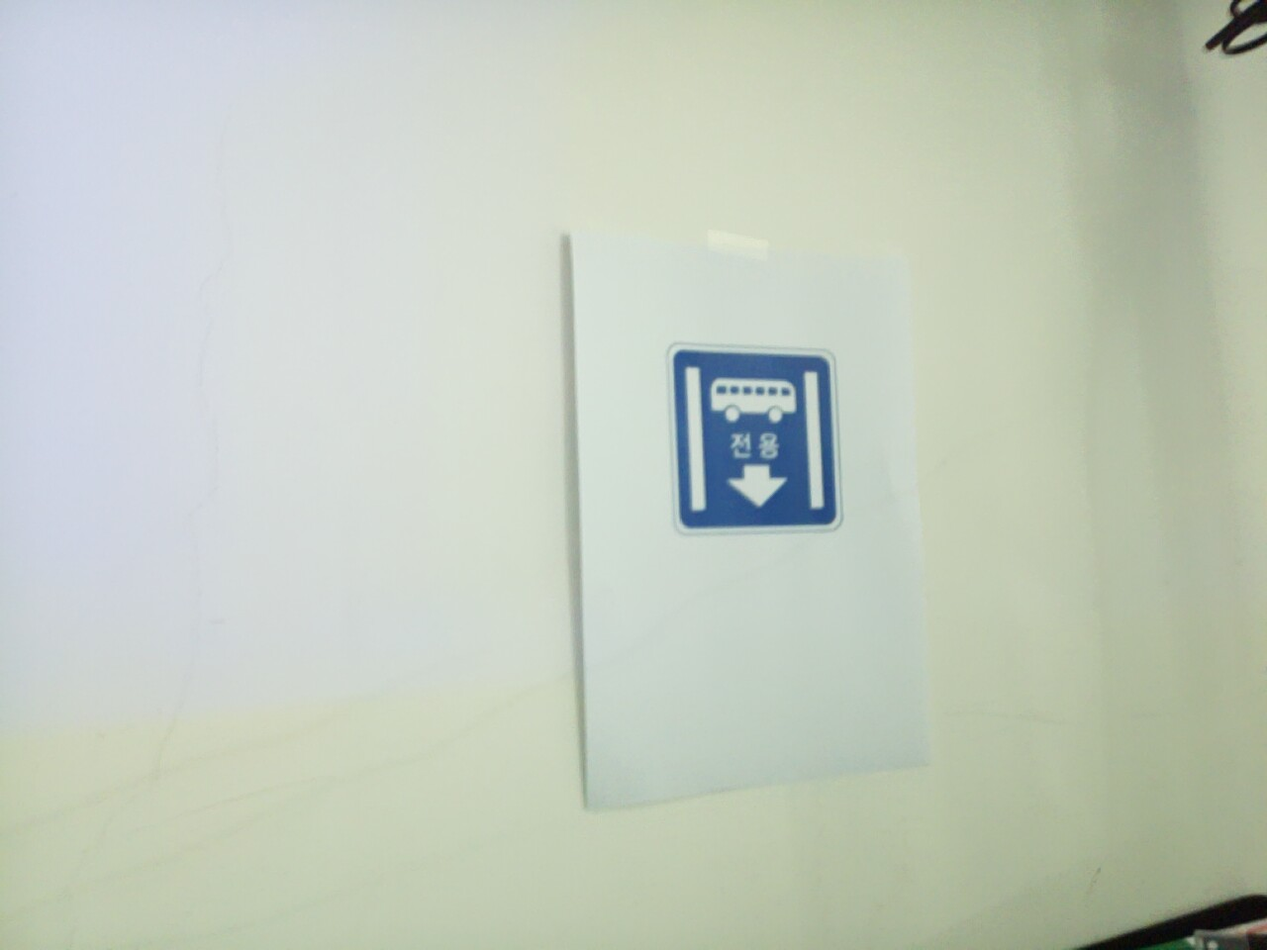bus_only_lane: (666, 342, 843, 535)
